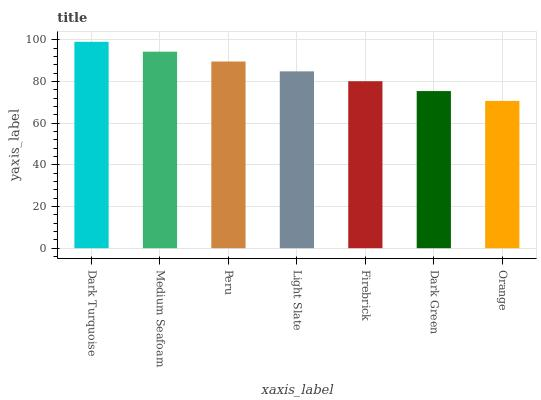axis: (50, 35, 63, 257)
label: (147, 266, 173, 371), (79, 266, 107, 363), (423, 266, 445, 338), (286, 268, 308, 334), (356, 267, 377, 324), (493, 266, 513, 317), (218, 267, 242, 299)
rectangle: (73, 41, 109, 248), (143, 52, 178, 248), (211, 62, 245, 248), (281, 72, 314, 249), (349, 81, 383, 249), (417, 89, 451, 248), (486, 99, 519, 248)
title: (50, 4, 96, 30)
